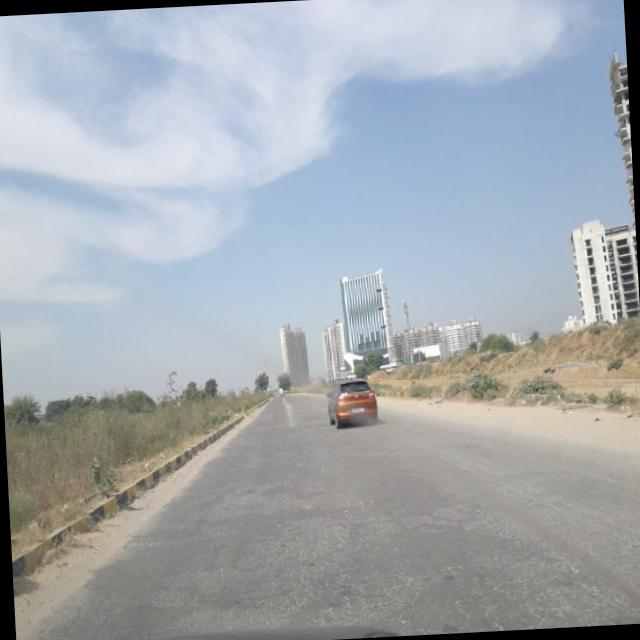crack: (50, 468, 640, 635)
